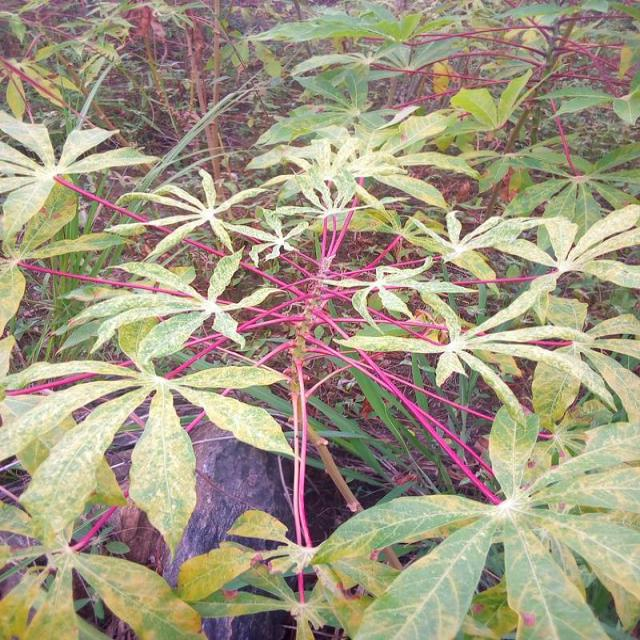cassava leaf: (1, 2, 638, 638), (127, 381, 197, 559)
